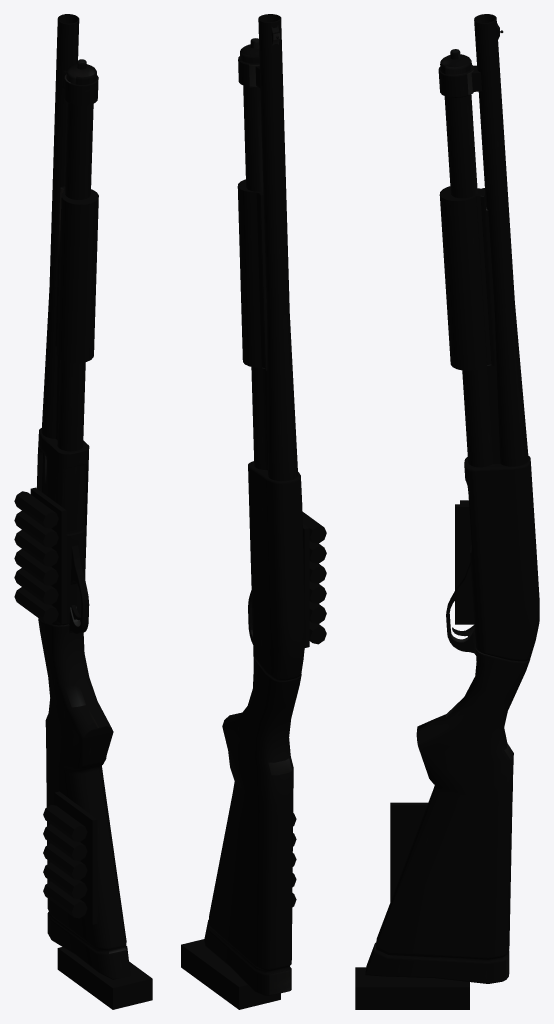
The model's file is Rem870__RecoilPad_Rubber__ShellHolder_Butt__Sidesaddle_Shotgun.fbx.
3 renders of one model, left to right at view 1: azimuth 30°, elevation 25°; view 2: azimuth 210°, elevation 25°; view 3: azimuth 270°, elevation 25°, orthographic. The views are drawn at different scales.
Visible parts, largest first — view 1: asset_Rem870.001; view 2: asset_Rem870.001; view 3: asset_Rem870.001.
Boxes of the visible parts, x1,y1,x2,y2 form: asset_Rem870.001: (14,14,152,1009); asset_Rem870.001: (181,14,326,1009); asset_Rem870.001: (355,14,539,1009).
Bounding box in the file's own units: 0.0429 × 0.651 × 0.1108.
